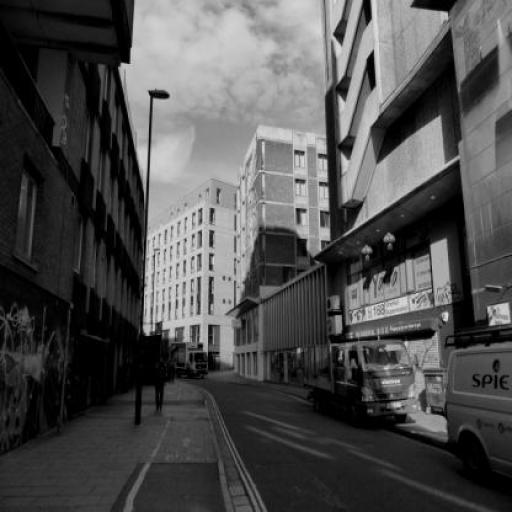street light: (135, 90, 171, 428)
